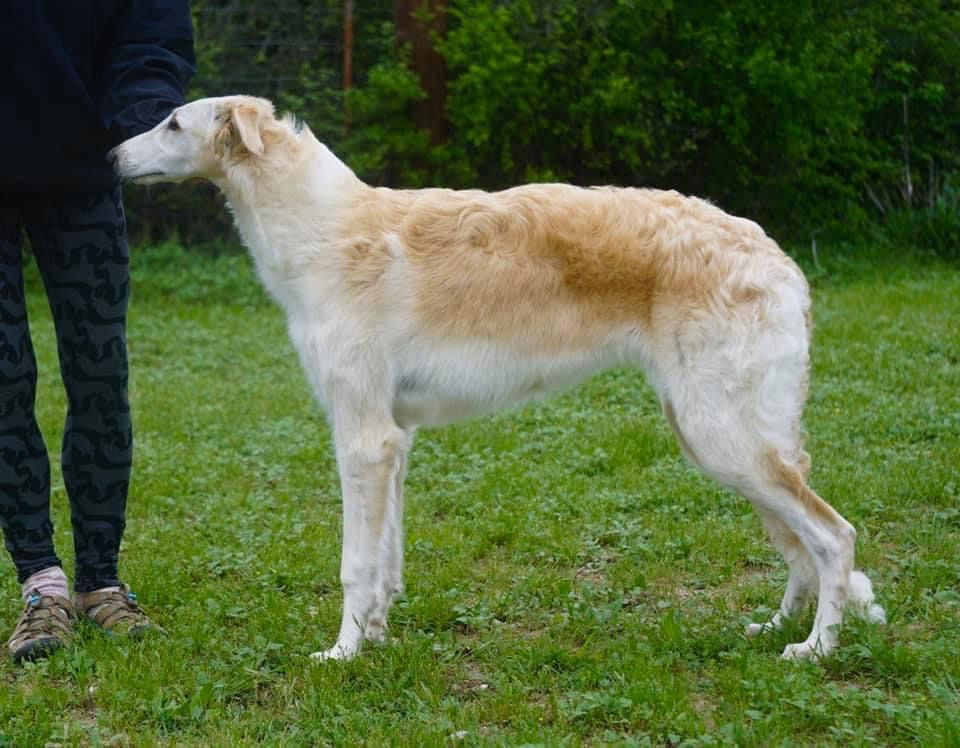borzoi: (100, 94, 903, 675)
